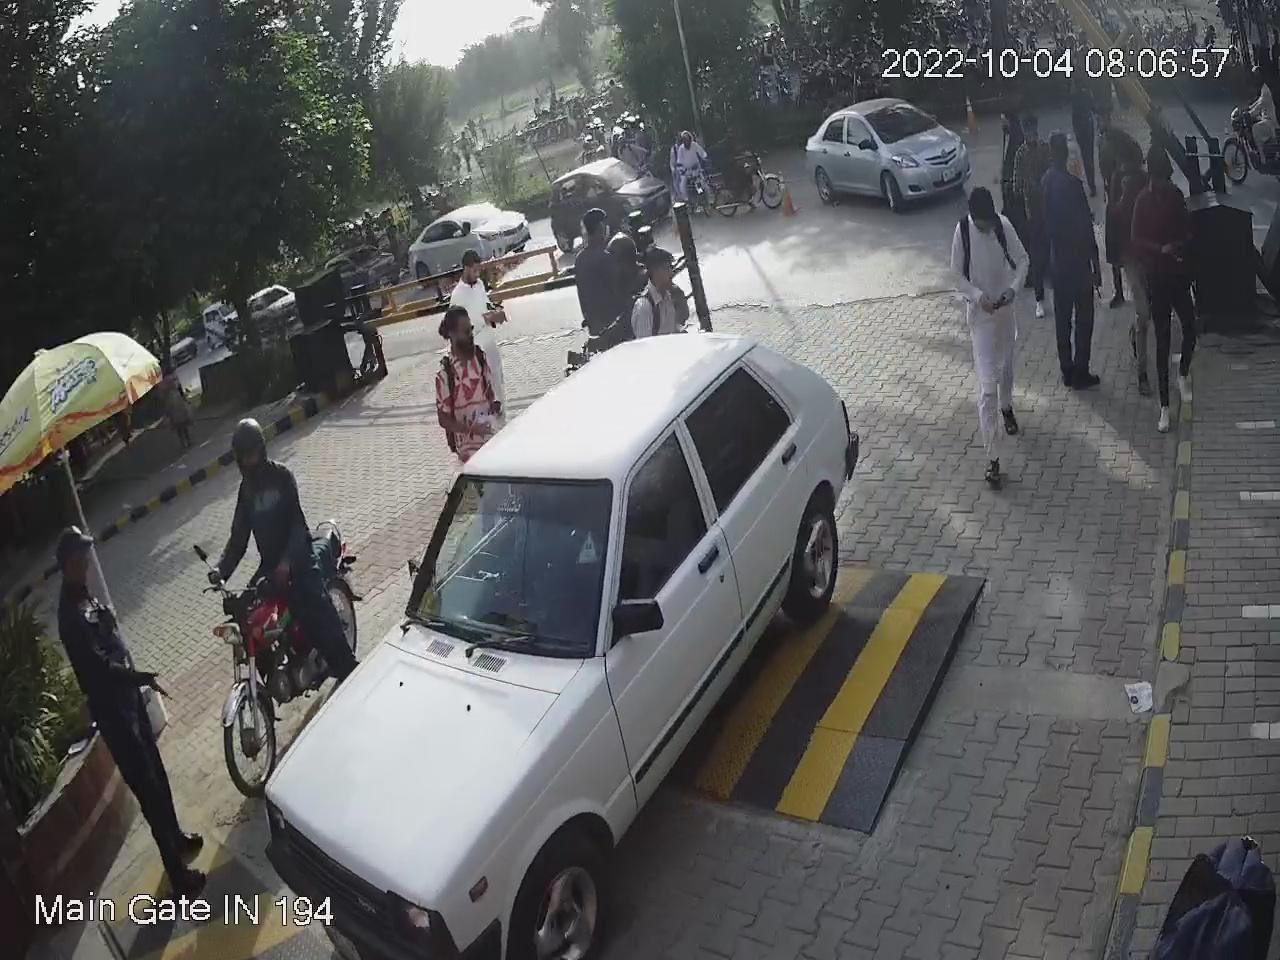windshield: (398, 468, 623, 657)
